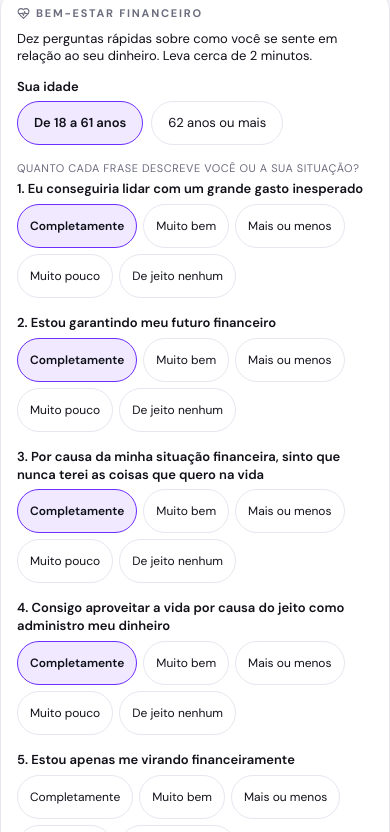
Test case: questionário de bem-estar financeiro › primeira vez: responde as 10 perguntas e grava soma e nota oficiais
This screenshot has width=390, height=832.
Earlier steps of the test are not shown.
Later steps or results of the test are not shown.
Step 1. Click the radio button labelled "Completamente" below "Estou apenas me virando financeiramente" → [75, 797], box [17,775,133,819]
(page scrolled)
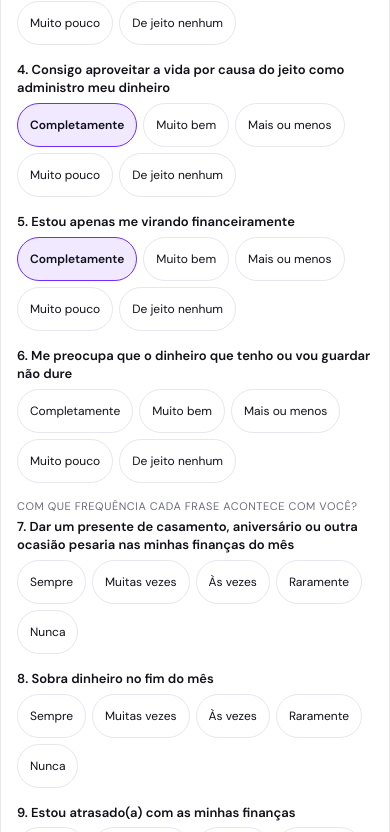
Step 2. Click the 4th radio button labelled "Completamente" → [75, 411], box [17,389,133,433]
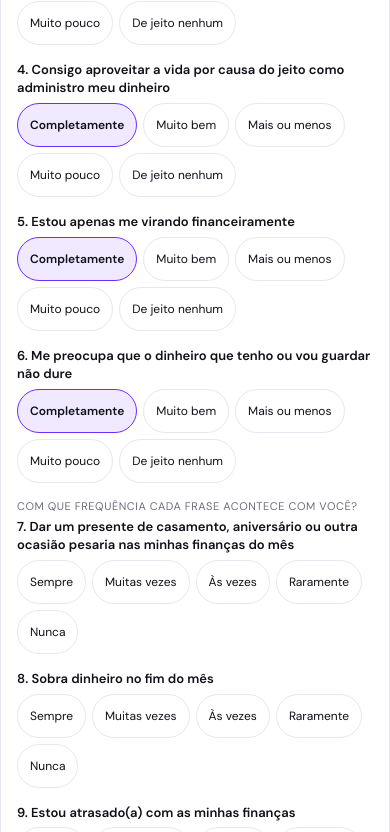
Step 3. Click the 1st radio button labelled "Sempre" → [52, 582], box [17,560,86,604]
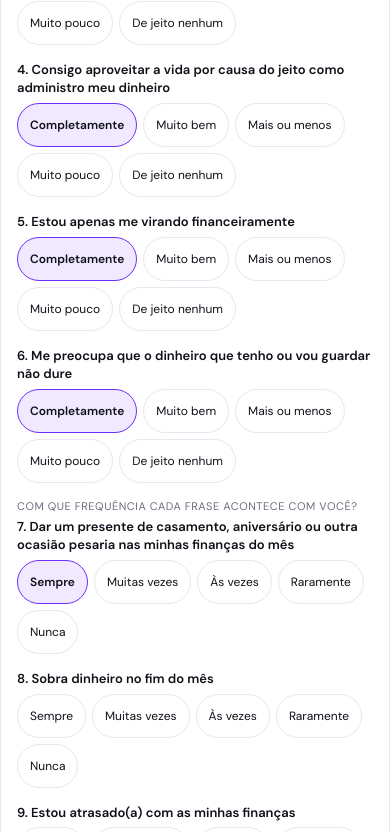
Step 4. Click the radio button labelled "Sempre" below "Sobra dinheiro no fim do mês" → [52, 716], box [17,694,86,738]
(page scrolled)
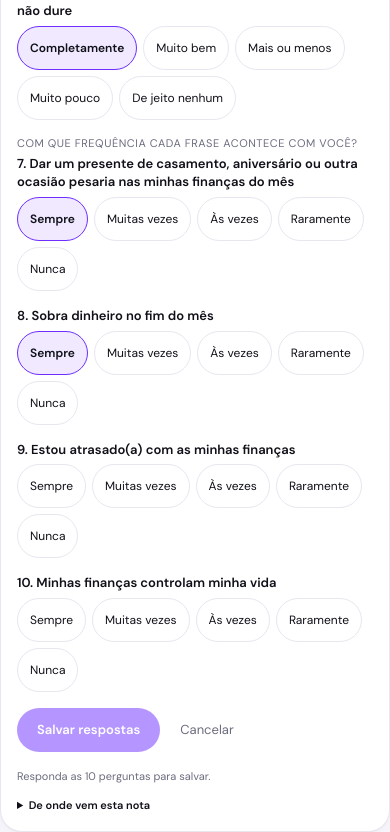
Step 5. Click the radio button labelled "Sempre" below "Estou atrasado(a) com as minhas finanças" → [52, 486], box [17,464,86,508]
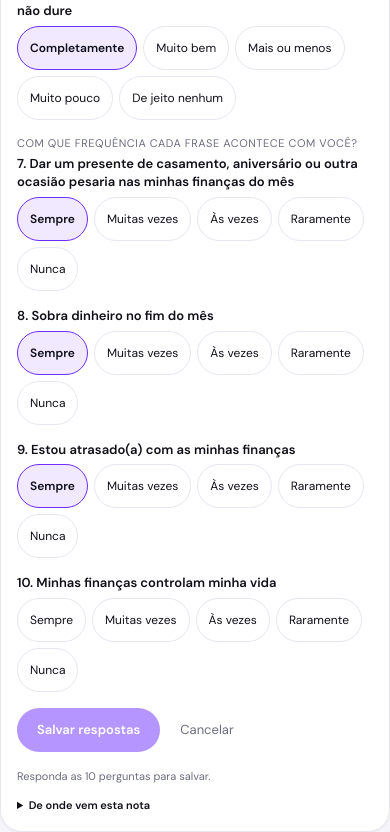
Step 6. Click the radio button labelled "Sempre" below "Minhas finanças controlam minha vida" → [52, 620], box [17,598,86,642]
(page scrolled)
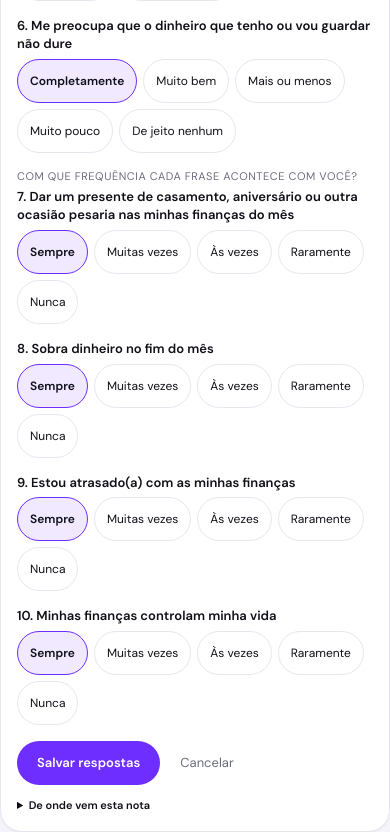
Expected: the button "Salvar respostas" is enabled, [17,741,160,785]
